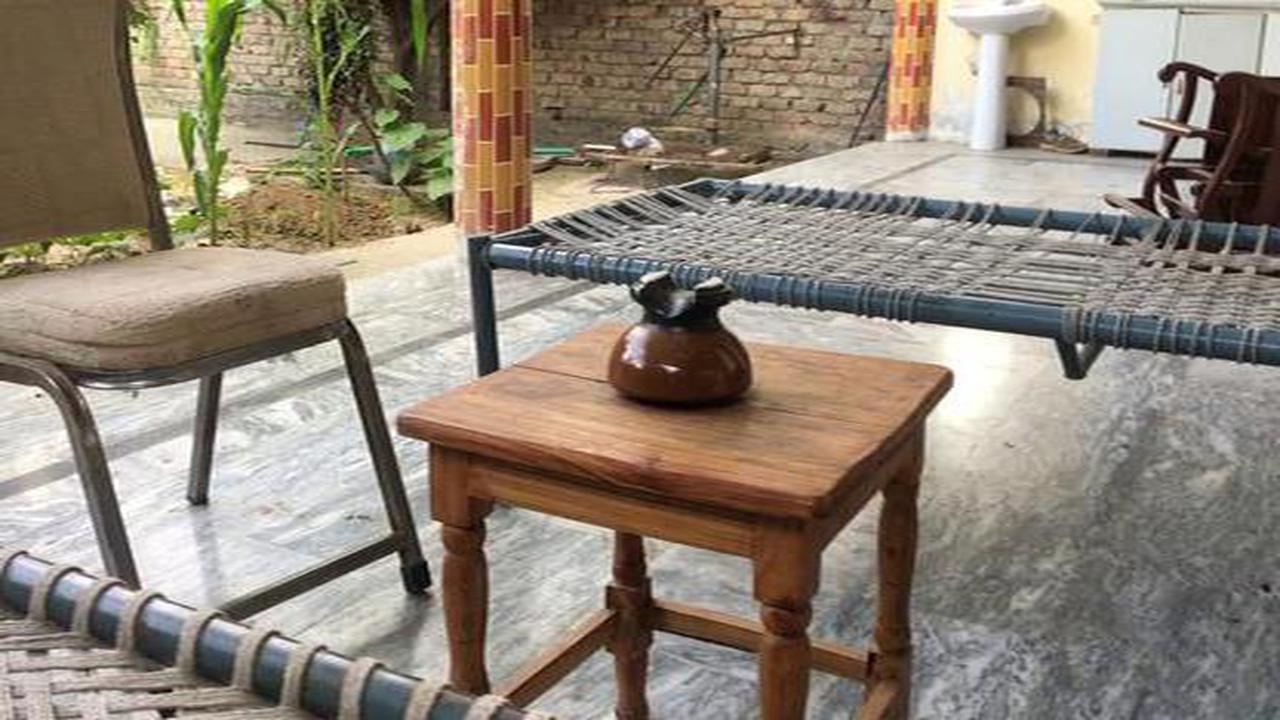insulator_pin: (582, 252, 776, 412)
